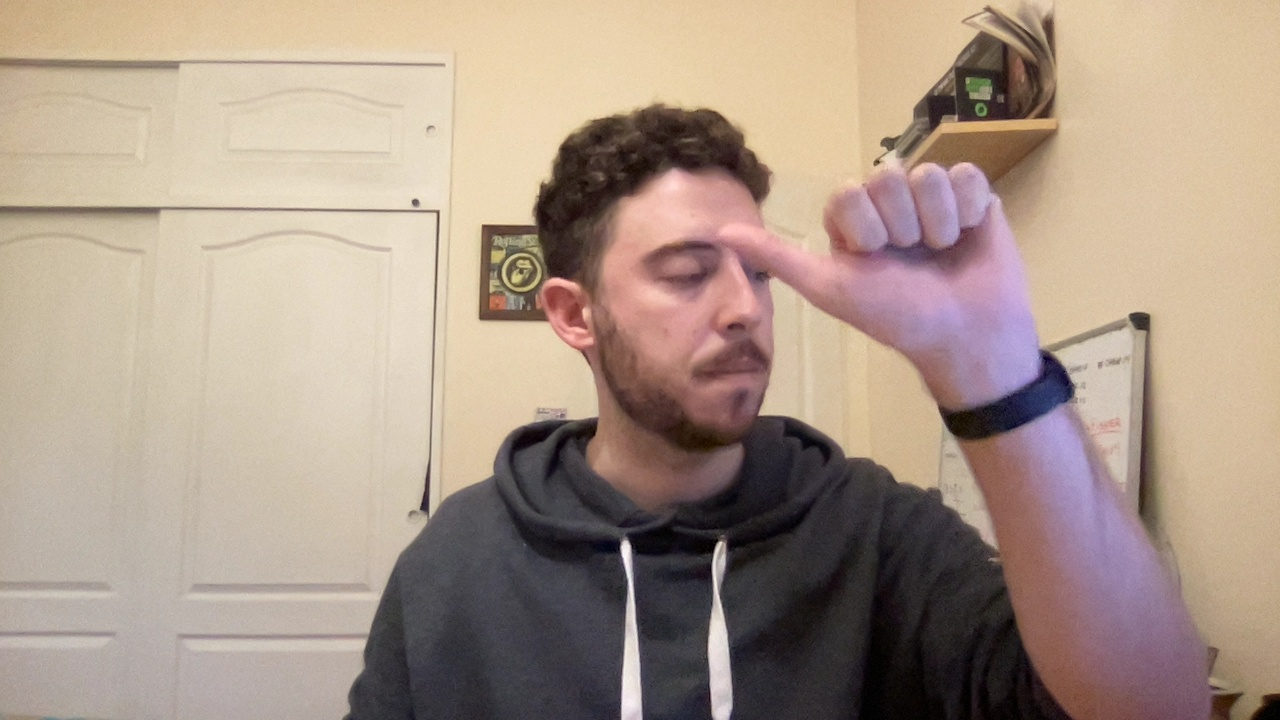pulgar: (710, 163, 1047, 389)
